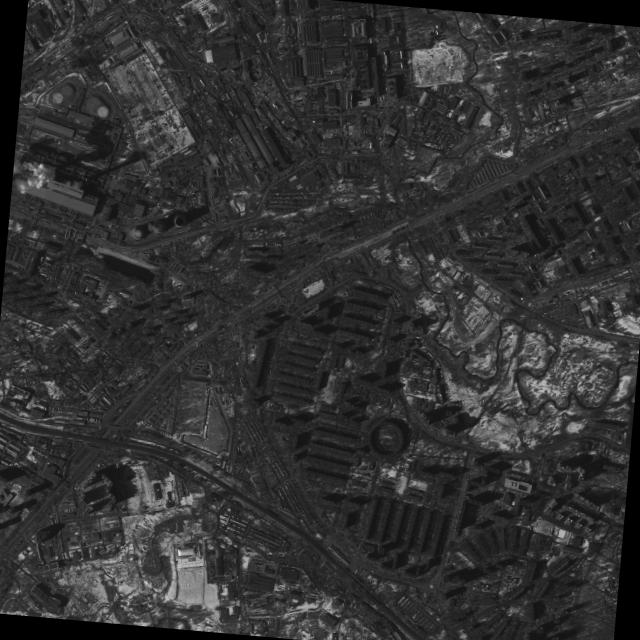storage-tank: (59, 84, 72, 97), (87, 96, 99, 109), (95, 106, 107, 118), (50, 92, 62, 104)
